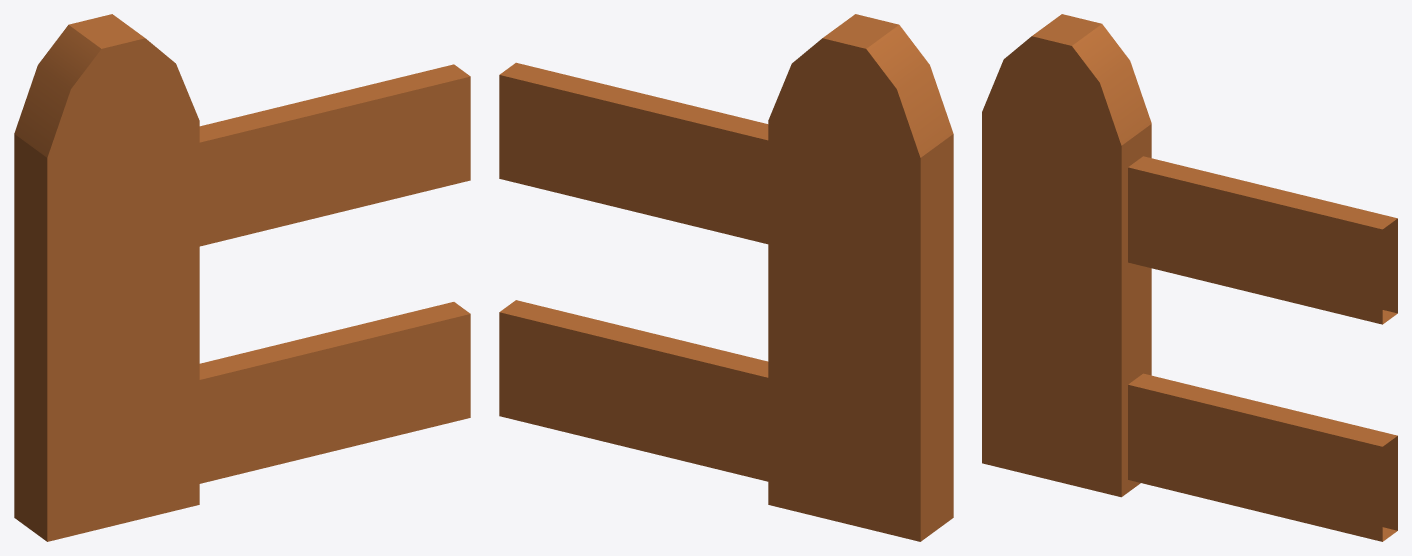
The model's file is SM_Fence2.fbx.
The picture shows the model from 3 angles, left to right: view 1: azimuth 30°, elevation 25°; view 2: azimuth 150°, elevation 25°; view 3: azimuth 330°, elevation 25°; orthographic projection. The views are drawn at different scales.
Parts seen in each view (by area): view 1: SM_Fence2; view 2: SM_Fence2; view 3: SM_Fence2.
Part boxes in pixels (x1=…): SM_Fence2: x1=14, y1=14, x2=470, y2=541; SM_Fence2: x1=499, y1=14, x2=953, y2=541; SM_Fence2: x1=982, y1=14, x2=1397, y2=541.
Bounding box in the file's own units: 276 × 294 × 36.78.
